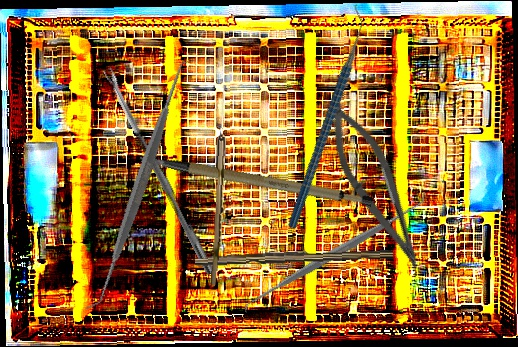Chopper: (222, 2, 428, 231)
Micro Scissor: (311, 94, 444, 278)
Scalpel Handle: (138, 117, 376, 238), (194, 243, 394, 270)
Spatula Surgical: (14, 57, 266, 312), (236, 188, 435, 317)
Surgical Spoon: (103, 66, 216, 276), (210, 84, 229, 286)
